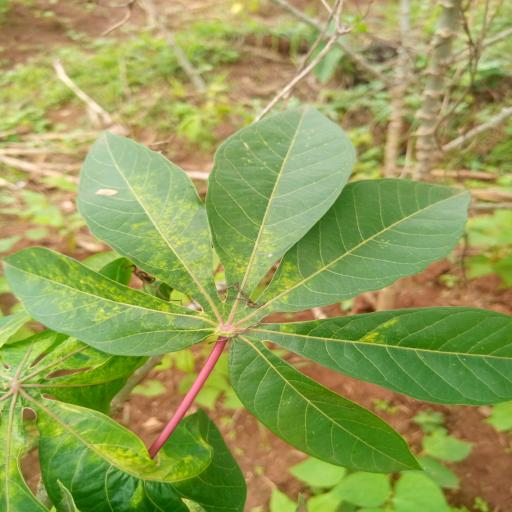Cassava_Mosaic: (3, 96, 512, 475)
